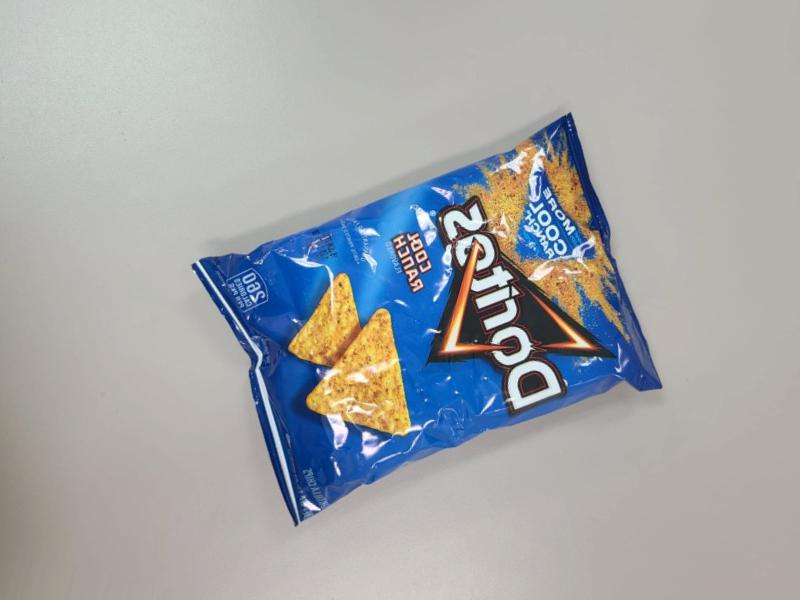doritos: (277, 152, 688, 575)
